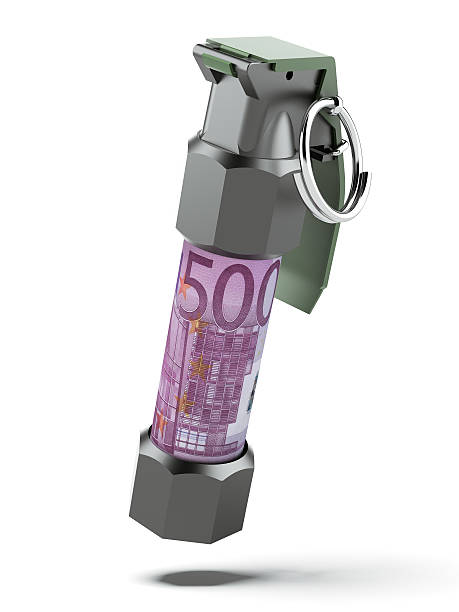e1: (128, 36, 371, 544)
